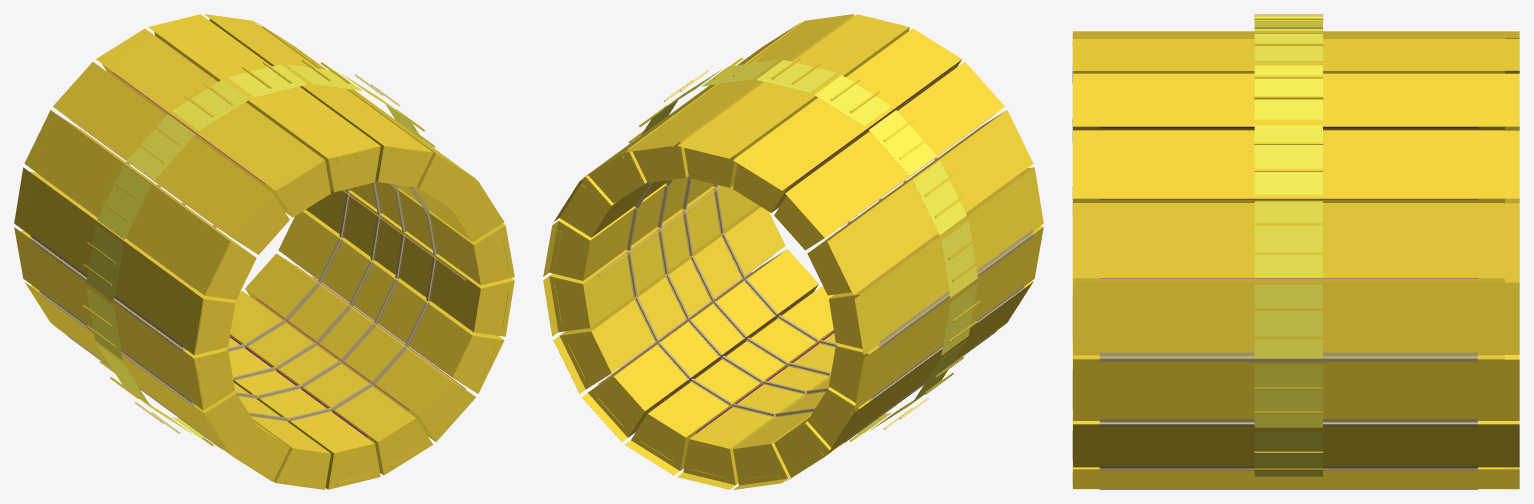
Rendered from TRD.glb.
The picture shows the model from 3 angles, left to right: view 1: azimuth 30°, elevation 25°; view 2: azimuth 150°, elevation 25°; view 3: azimuth 270°, elevation 25°; orthographic projection. The views are drawn at different scales.
Parts seen in each view (by area): view 1: UTS1_1.017, UTS1_1.015, UTS1_1.013, UTS3_1.005, UTS1_1.001, UTS1_1.019, UTS1_1.011, UTS3_1.003, UTS4_1.001, UTS1_1.021, UTS1_1.009, UTS3_1.001 (+31 smaller); view 2: UTS1_1.017, UTS1_1.015, UTS1_1.013, UTS3_1.005, UTS1_1.001, UTS1_1.019, UTS1_1.011, UTS3_1.003, UTS4_1.001, UTS1_1.021, UTS1_1.009, UTS3_1.001 (+31 smaller); view 3: UTS1_1.003, UTS1_1.005, UTS1_1.007, UTS4_1.001, UTS1_1.009, UTS1_1.001, UTS1_1.011, UTS3_1.005, FFC1_0.007, FFC1_0.005, FFC1_0.009, FFC1_0.003 (+23 smaller).
Boxes of the visible parts, left/top/right/bottom form: UTS1_1.017: left=30, top=114, right=256, bottom=299; UTS1_1.015: left=59, top=66, right=289, bottom=254; UTS1_1.013: left=102, top=33, right=330, bottom=217; UTS3_1.005: left=245, top=253, right=475, bottom=441; UTS1_1.001: left=278, top=209, right=504, bottom=393; UTS1_1.019: left=20, top=171, right=235, bottom=355; UTS1_1.011: left=154, top=18, right=380, bottom=192; UTS3_1.003: left=230, top=291, right=432, bottom=475; UTS4_1.001: left=306, top=189, right=514, bottom=336; UTS1_1.021: left=20, top=230, right=235, bottom=410; UTS1_1.009: left=209, top=18, right=433, bottom=187; UTS3_1.001: left=225, top=337, right=380, bottom=489; UTS1_1.017: left=807, top=110, right=1033, bottom=295; UTS1_1.015: left=774, top=62, right=1004, bottom=250; UTS1_1.013: left=733, top=28, right=961, bottom=212; UTS3_1.005: left=588, top=249, right=818, bottom=437; UTS1_1.001: left=559, top=205, right=785, bottom=389; UTS1_1.019: left=829, top=167, right=1043, bottom=350; UTS1_1.011: left=683, top=14, right=909, bottom=187; UTS3_1.003: left=631, top=286, right=833, bottom=470; UTS4_1.001: left=549, top=185, right=757, bottom=332; UTS1_1.021: left=829, top=226, right=1043, bottom=405; UTS1_1.009: left=631, top=14, right=854, bottom=182; UTS3_1.001: left=683, top=333, right=838, bottom=485; UTS1_1.003: left=1073, top=278, right=1504, bottom=355; UTS1_1.005: left=1073, top=203, right=1504, bottom=277; UTS1_1.007: left=1073, top=130, right=1504, bottom=202; UTS4_1.001: left=1073, top=355, right=1504, bottom=420; UTS1_1.009: left=1073, top=73, right=1504, bottom=130; UTS1_1.001: left=1073, top=421, right=1504, bottom=467; UTS1_1.011: left=1073, top=39, right=1504, bottom=73; UTS3_1.005: left=1073, top=467, right=1504, bottom=488; FFC1_0.007: left=1254, top=201, right=1322, bottom=277; FFC1_0.005: left=1254, top=284, right=1322, bottom=358; FFC1_0.009: left=1254, top=125, right=1322, bottom=194; FFC1_0.003: left=1254, top=365, right=1322, bottom=427.
Bounding box in the file's own units: 796 × 784 × 728.
